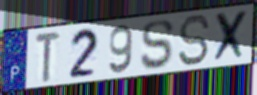2: (66, 26, 102, 83)
9: (108, 23, 134, 76)
S: (139, 18, 175, 72), (177, 13, 212, 67)
T: (34, 30, 62, 84)
X: (211, 8, 250, 65)
